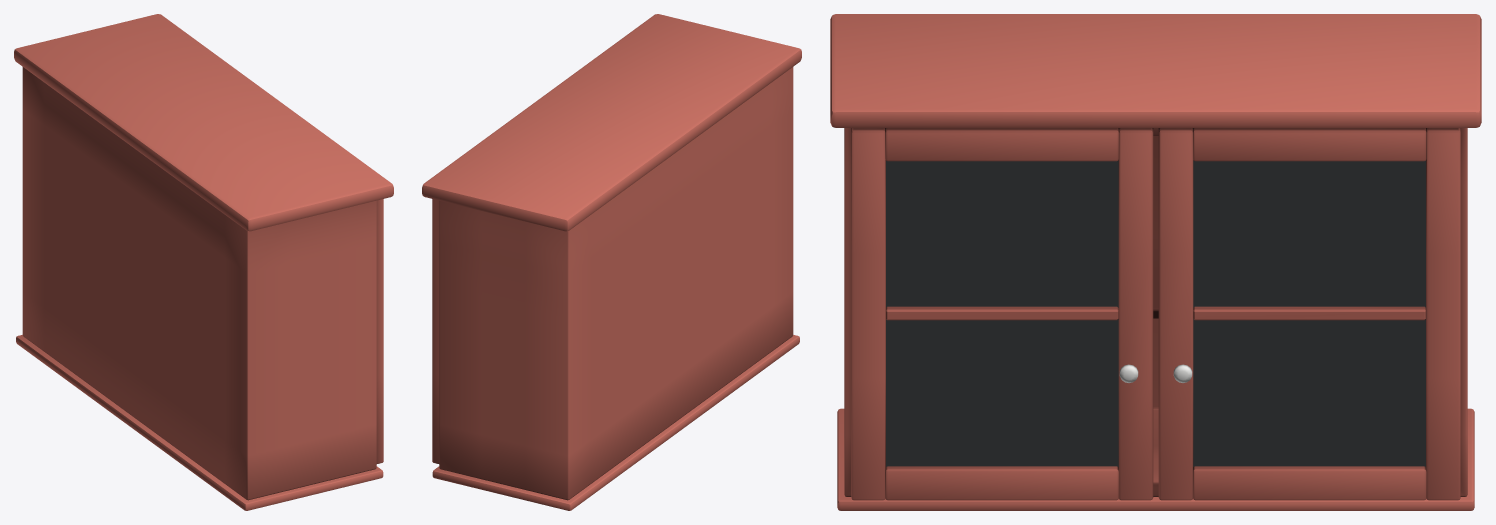
Rendered from nd_top_cabinet.glb.
3 views of the same model, side by side, from view 1: azimuth 30°, elevation 25°; view 2: azimuth 150°, elevation 25°; view 3: azimuth 270°, elevation 25° (orthographic). The views are drawn at different scales.
Visible parts, largest first — view 1: PART, P_door_a; view 2: PART, P_door_b; view 3: P_door_a, P_door_b, PART.
Part boxes in pixels (bbox=[...]): PART: bbox=[14, 14, 393, 510]; P_door_a: bbox=[376, 199, 383, 463]; PART: bbox=[422, 14, 801, 510]; P_door_b: bbox=[432, 199, 439, 463]; P_door_a: bbox=[851, 128, 1153, 500]; P_door_b: bbox=[1158, 128, 1460, 500]; PART: bbox=[830, 14, 1481, 510].
Size of the model in its own units: 0.3551 by 0.648 by 0.94.
